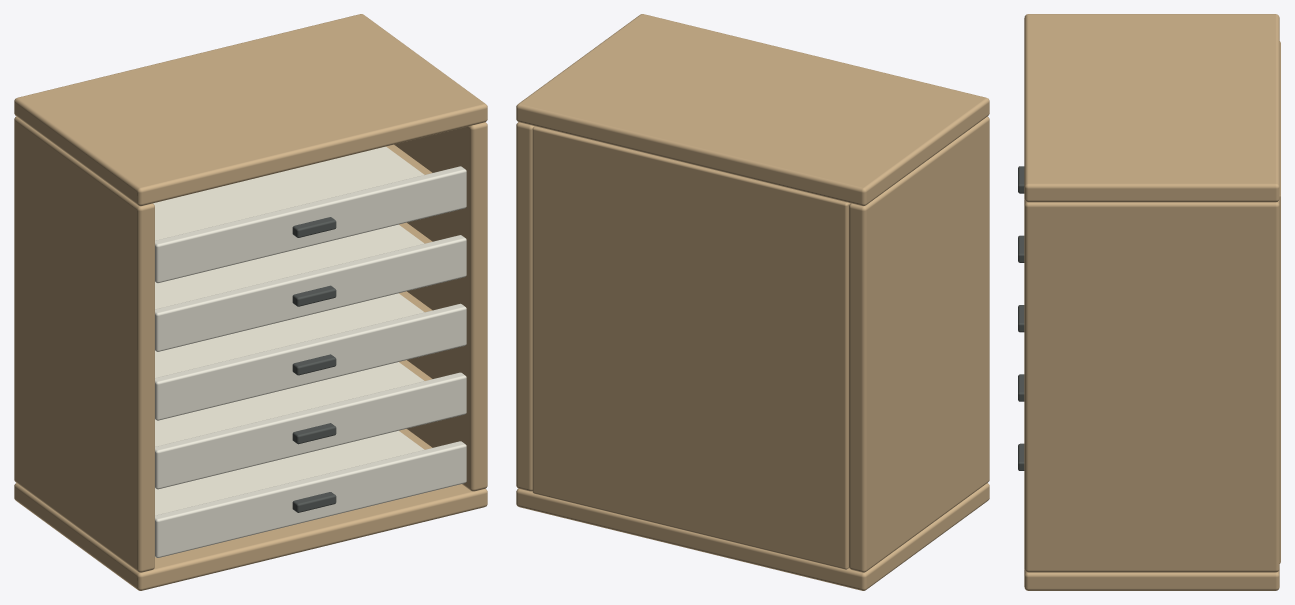
File: bookbinding-and-paper-mill-repair-tissue-cabinet-51375cc8__30589.glb
The picture shows the model from 3 angles, left to right: view 1: azimuth 30°, elevation 25°; view 2: azimuth 150°, elevation 25°; view 3: azimuth 270°, elevation 25°; orthographic projection.
Parts seen in each view (by area): view 1: repair-tissue-cabinet; view 2: repair-tissue-cabinet; view 3: repair-tissue-cabinet.
Boxes of the visible parts, x1=… form: repair-tissue-cabinet: x1=14, y1=14, x2=487, y2=590; repair-tissue-cabinet: x1=516, y1=14, x2=989, y2=590; repair-tissue-cabinet: x1=1018, y1=14, x2=1280, y2=590.
Bounding box in the file's own units: 0.8 × 0.88 × 0.515.
